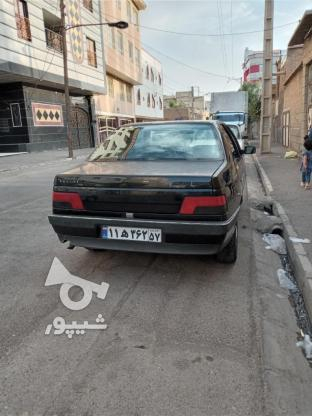car: (100, 226, 161, 242)
